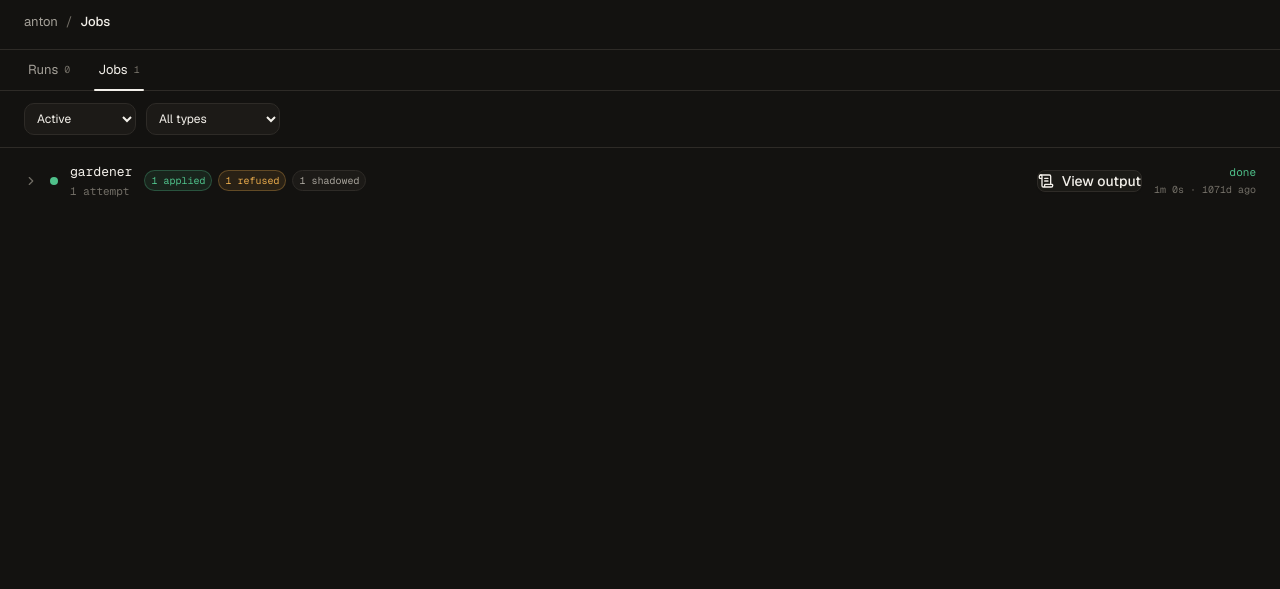
Test: jobs page — what each pass applied, shadowed and refused › details each applied, shadowed and refused proposal under the row
Click the button "gardener 1 attempt 1 applied 1 refused 1 shadowed" at (101, 171), box [24, 162, 1025, 200]
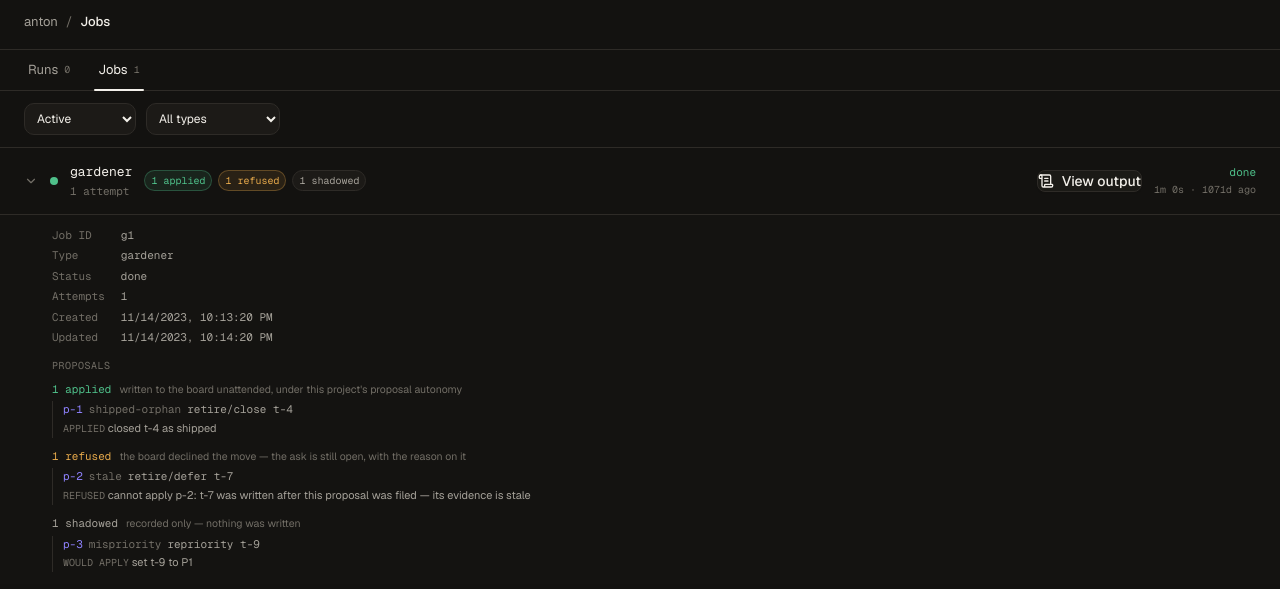
Now the text "closed t-4 as shipped" is shown, box [108, 421, 217, 435]
Now the text "set t-9 to P1" is shown, box [132, 555, 193, 569]
Now the text "shipped-orphan" is shown, box [89, 401, 181, 418]
